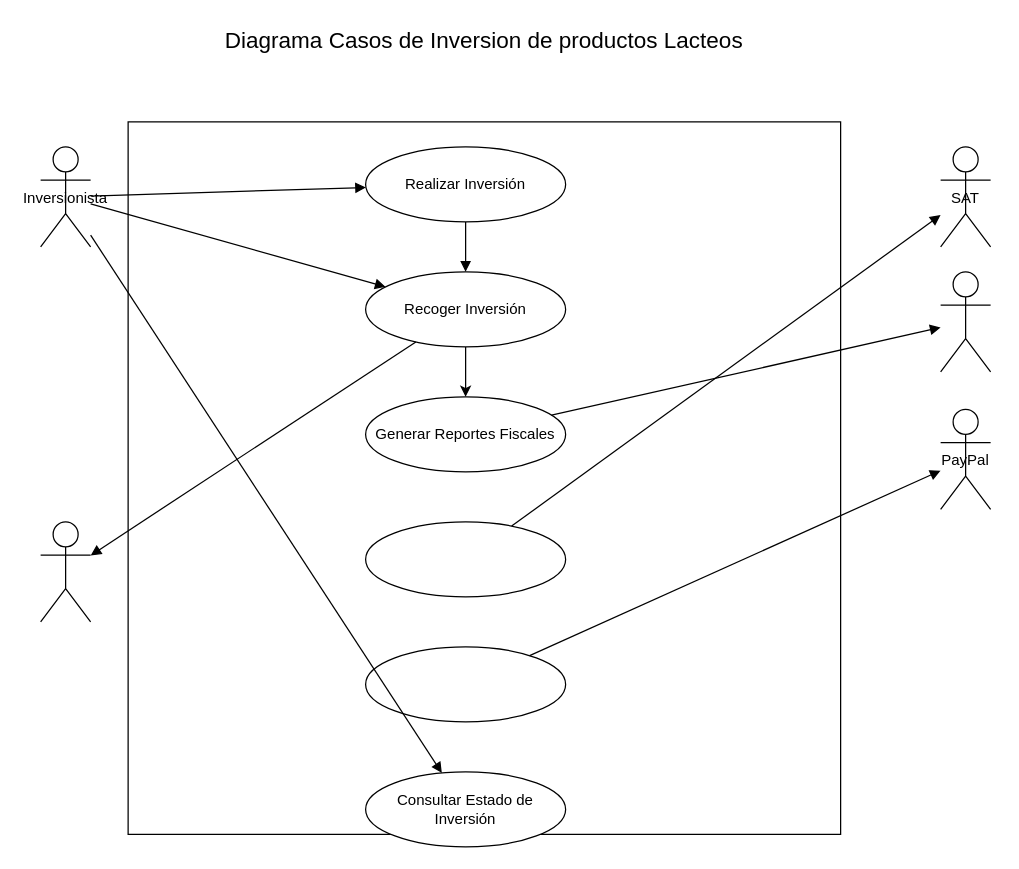
This 1019x869 diagram has some shape labels left out. Each missing label, with the box of its shape:
Contador: (939, 271, 991, 372)
Declarar Impuestos: (364, 521, 566, 597)
Procesar Pagos: (364, 646, 566, 722)
Usuario Final: (39, 521, 91, 622)
